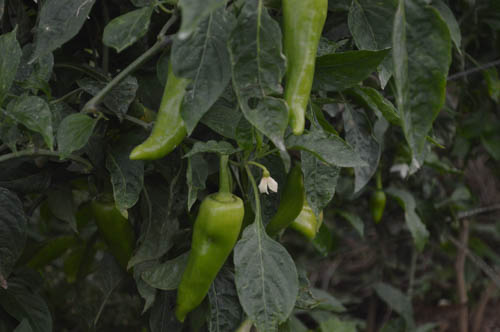ChiliPepper: (174, 196, 241, 321), (131, 73, 201, 174), (282, 1, 327, 132), (99, 198, 137, 265)
